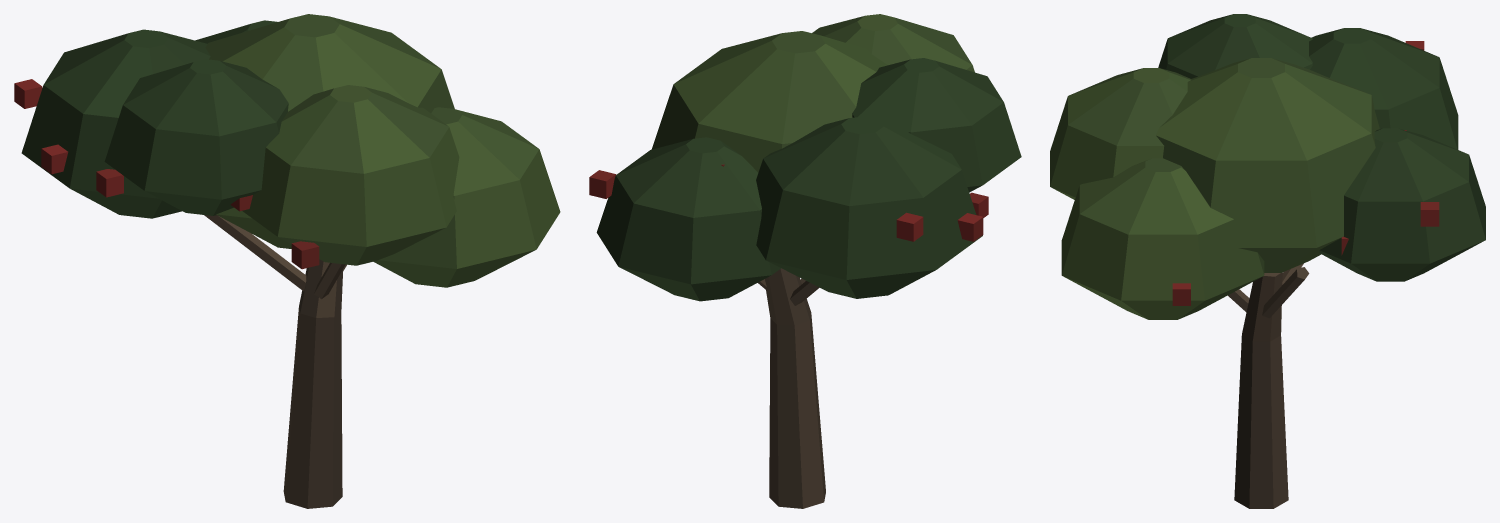
Rendered from walk_prop_orchard_tree.glb.
3 views of the same model, side by side, from view 1: azimuth 30°, elevation 25°; view 2: azimuth 150°, elevation 25°; view 3: azimuth 270°, elevation 25° (orthographic). The views are drawn at different scales.
Visible parts, largest first — view 1: walk_prop_orchard_tree; view 2: walk_prop_orchard_tree; view 3: walk_prop_orchard_tree.
Boxes of the visible parts, x1,y1,x2,y2 form: walk_prop_orchard_tree: [14, 14, 560, 508]; walk_prop_orchard_tree: [589, 14, 1021, 508]; walk_prop_orchard_tree: [1050, 14, 1485, 508].
Size of what is drawn, in the model's own units: 2.76 by 3.07 by 2.82.
Materials: 1 (1 with a texture image).
